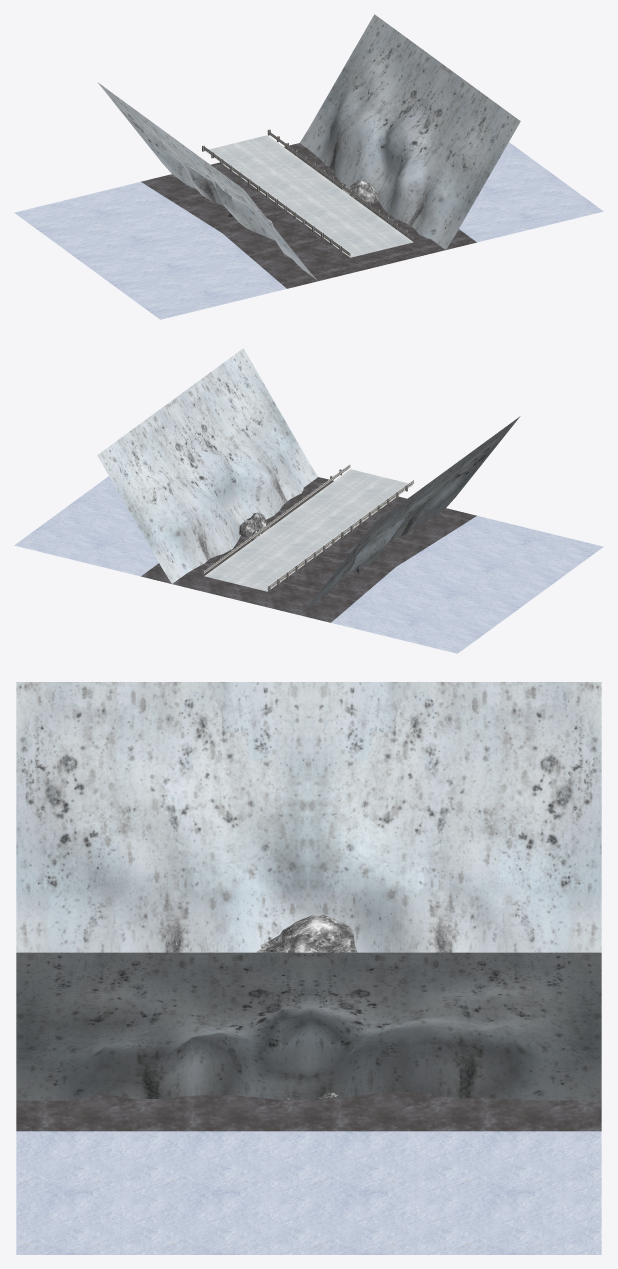
The picture shows the model from 3 angles, top to bottom: view 1: azimuth 30°, elevation 25°; view 2: azimuth 150°, elevation 25°; view 3: azimuth 270°, elevation 25°; orthographic projection. The views are drawn at different scales.
Parts seen in each view (by area): view 1: scene6, wall, road; view 2: scene6, wall, road; view 3: wall, scene6.
Part boxes in pixels (bbox=[...]): scene6: bbox=[14, 142, 603, 319]; wall: bbox=[97, 14, 520, 280]; road: bbox=[202, 129, 413, 257]; scene6: bbox=[14, 476, 603, 653]; wall: bbox=[97, 348, 520, 614]; road: bbox=[202, 464, 413, 591]; wall: bbox=[16, 682, 601, 1100]; scene6: bbox=[16, 1091, 601, 1254].
Bounding box in the file's own units: 140 × 33.69 × 80.
